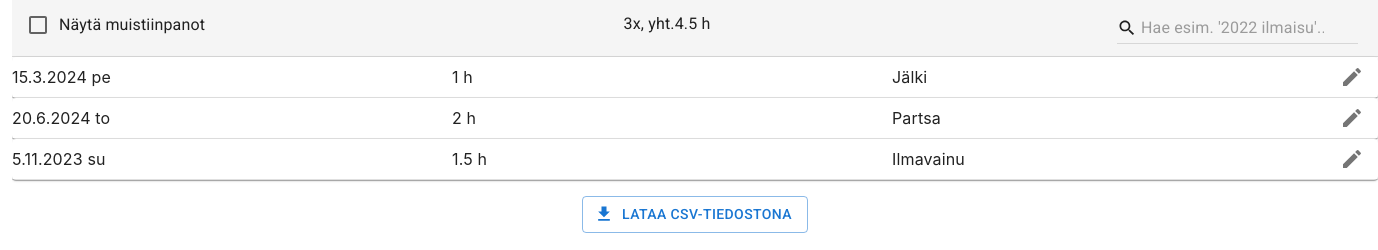
Reenit — hakusuodatus › suodattaa koiran nimen perusteella
Type "Kakkoskoira" into the field with placeholder "Hae esim. '2022 ilmaisu'..." at (1232, 28), box [1141, 12, 1324, 44]
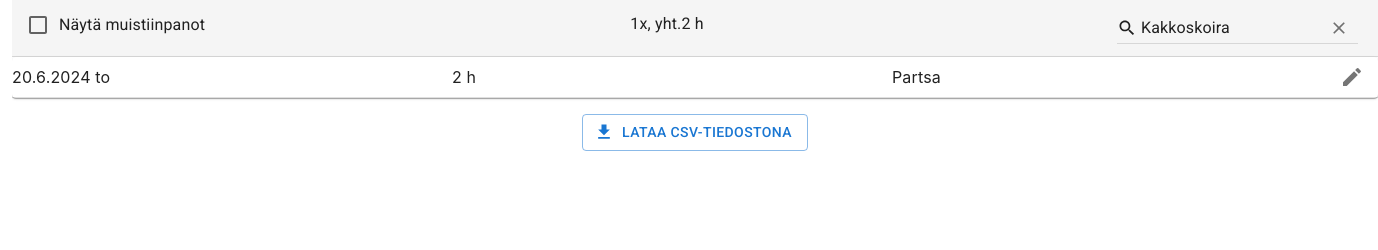
Expected: the text "Partsa" is shown, [892, 67, 941, 87]
Expected: the text "Jälki" is gone
Expected: the text "Ilmavainu" is gone
